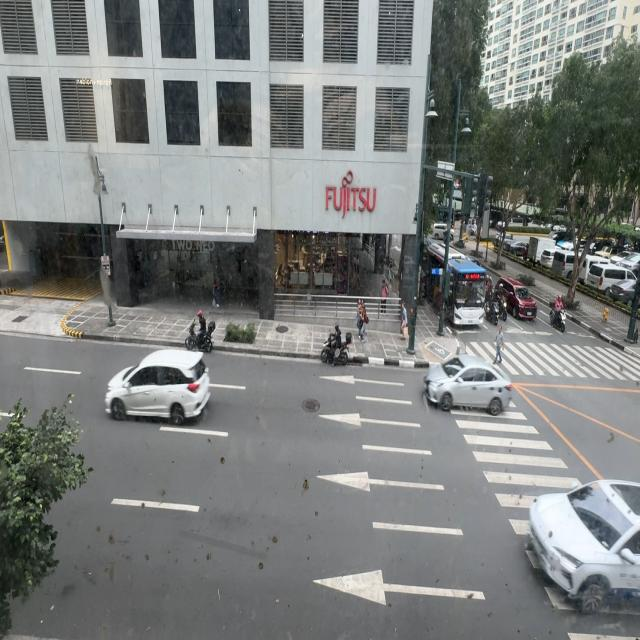crossing: (494, 326, 504, 364)
pedestrain: (356, 300, 367, 342), (380, 280, 389, 316), (401, 300, 409, 340)
